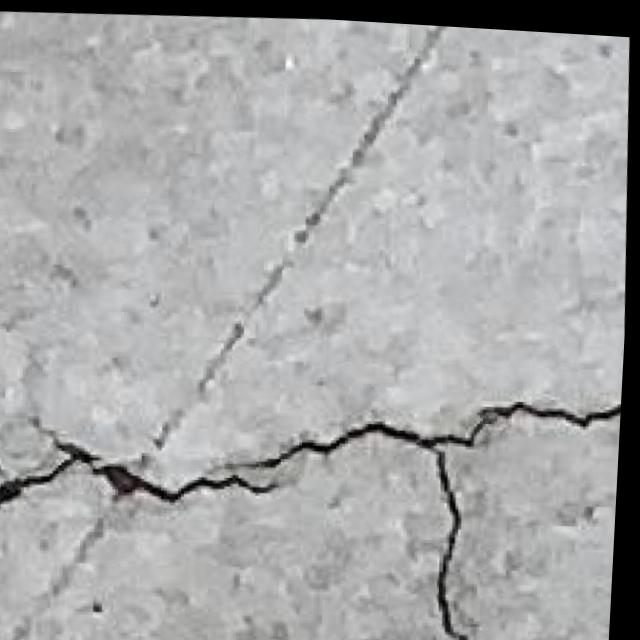Crack: (0, 271, 629, 640)
